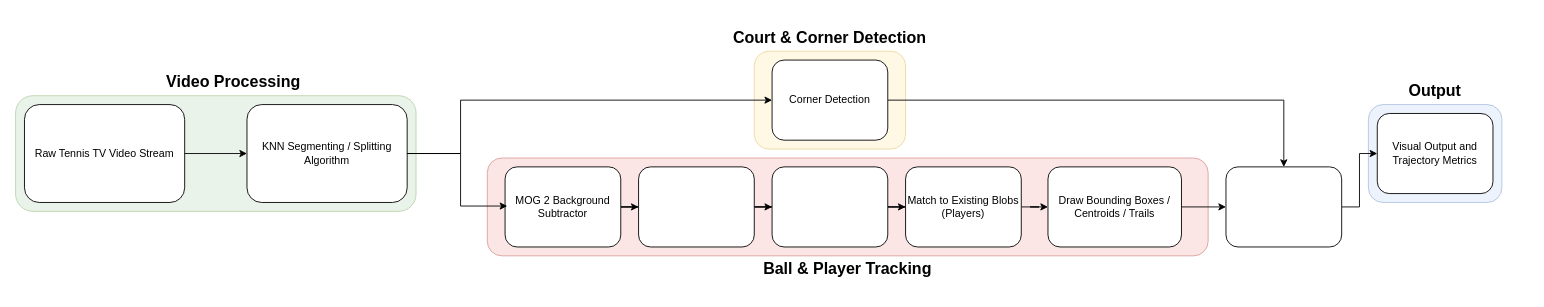
The diagram is 1544 pixels wide and 307 high, and some of its shapes have lost their labels. Each missing label, with the centre of its shape:
"Detect Moving Blobs" belongs at (696,206).
"Filter Blobs" belongs at (829,206).
"Transform from Raw to Birdseye Reference Frame" belongs at (1283,206).
